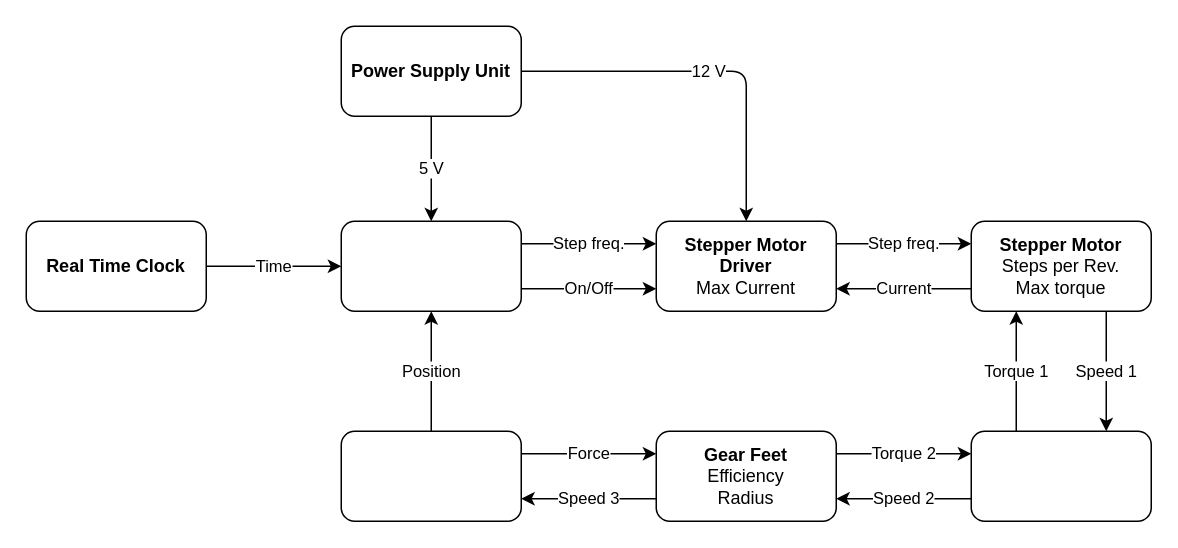
This 1178x548 diagram has some shape labels left out. The box of each missing label's shape, as (x1, y1, x2, y2) in pixels:
Arduino: (340, 220, 521, 311)
Chassis Mass: (340, 430, 521, 521)
Gearbox Efficiency Gear Ratio: (970, 430, 1151, 521)
